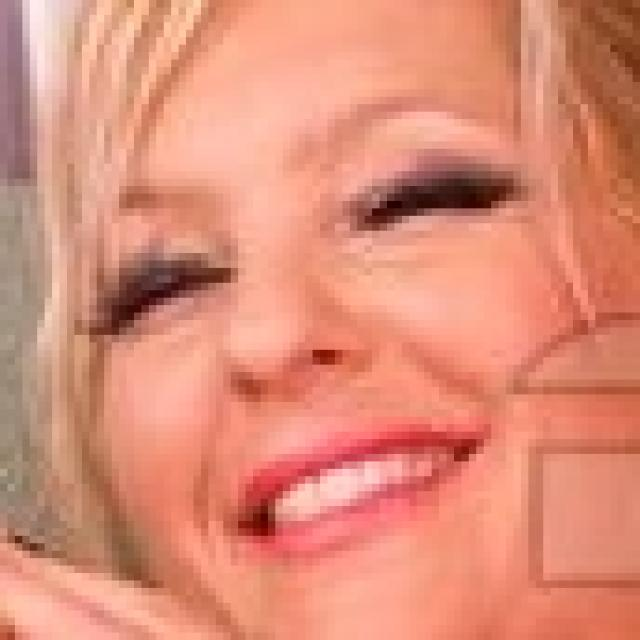Eyeclosed: (349, 155, 512, 246), (106, 242, 229, 350)
